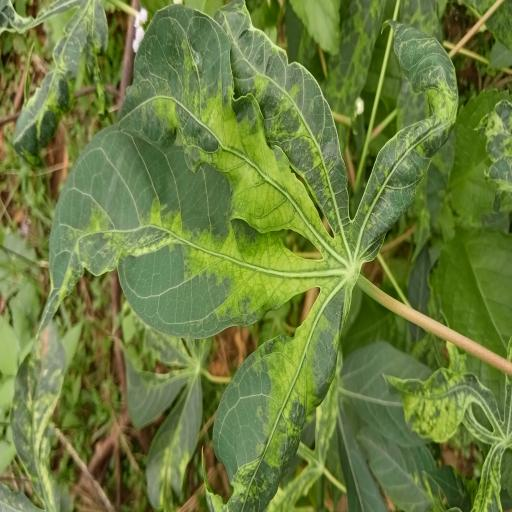Cassava_Mosaic: (37, 0, 461, 512)
